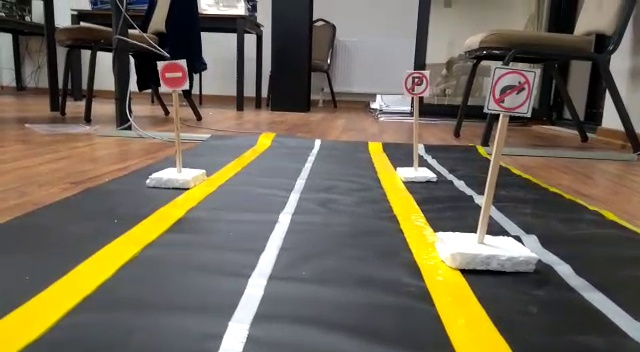girisi_olmayan_yol: (157, 60, 189, 89)
park_yapilmaz: (404, 69, 429, 96)
saga_donulmez: (490, 66, 533, 112)
